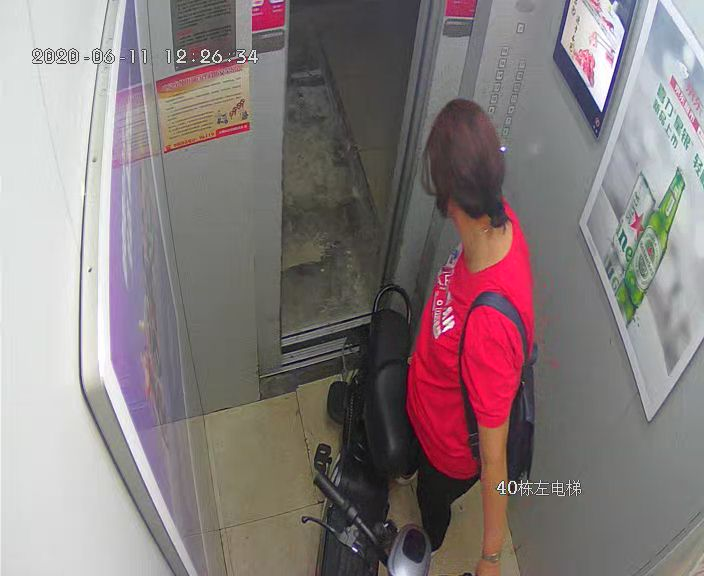Electric-bicycle: (310, 286, 443, 576)
